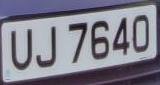0: (131, 10, 152, 60)
4: (112, 12, 132, 66)
6: (89, 17, 110, 64)
7: (64, 20, 90, 67)
J: (34, 21, 61, 74)
U: (8, 24, 37, 74)
